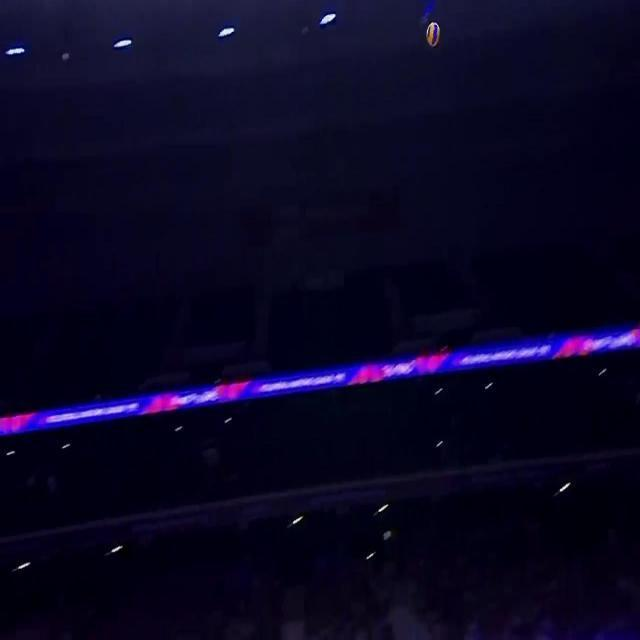volleyball: (426, 22, 440, 46)
